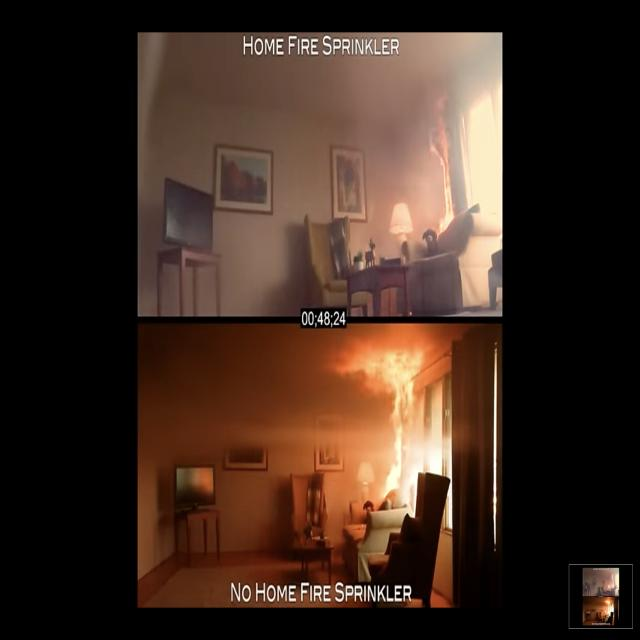Fogo: (343, 339, 456, 531), (425, 77, 484, 269)
